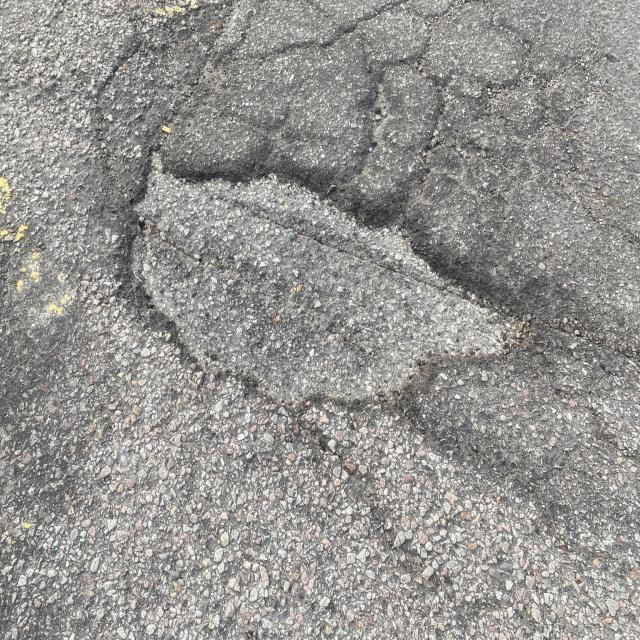Pothole: (78, 120, 568, 476)
